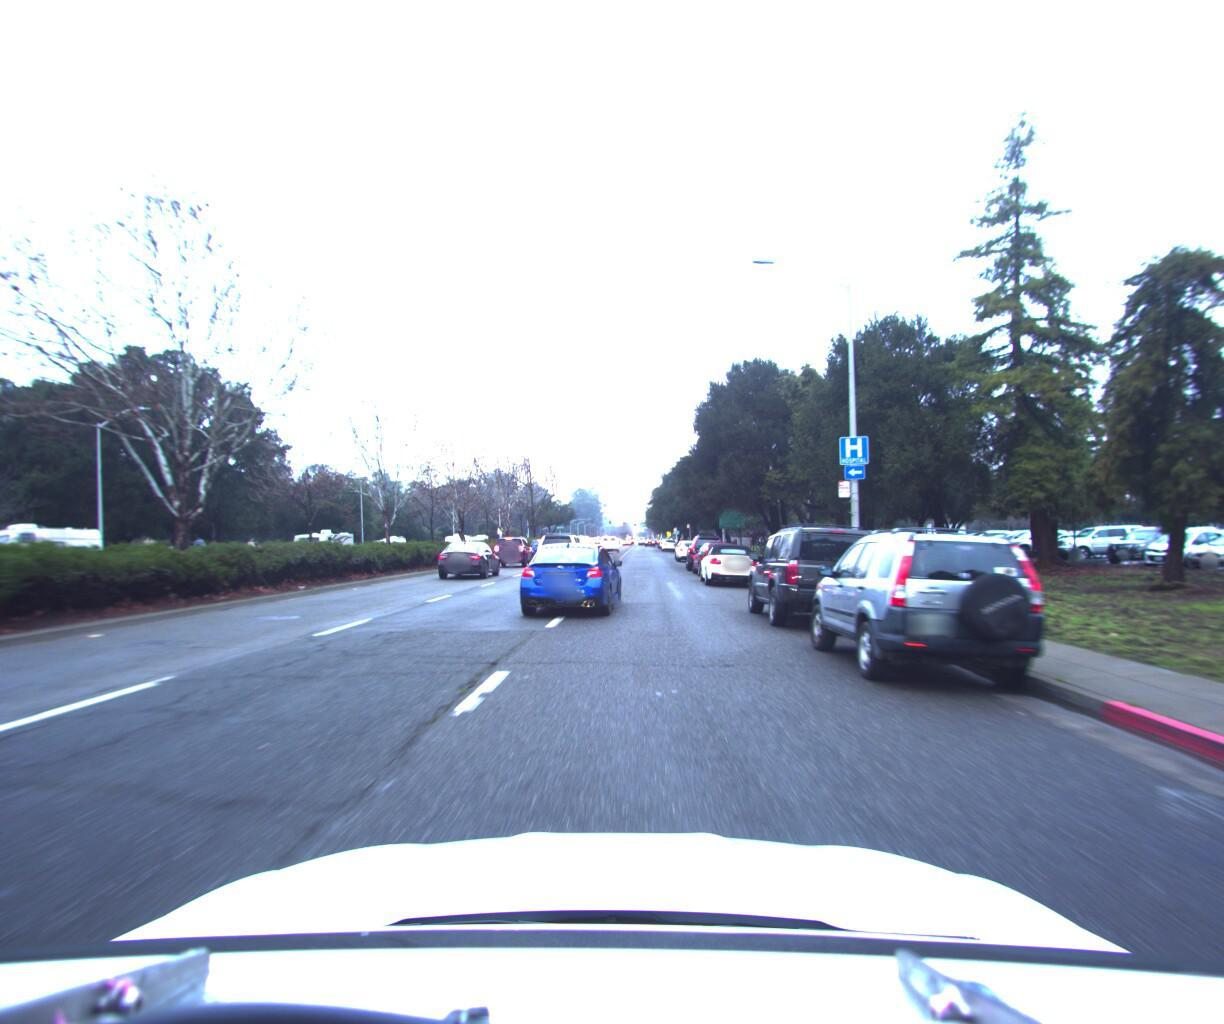car: (792, 515, 1075, 711), (738, 513, 892, 640), (514, 534, 622, 618), (693, 537, 761, 586), (435, 537, 502, 580), (532, 528, 589, 576), (689, 534, 742, 575), (682, 526, 726, 568), (493, 530, 537, 563), (673, 533, 703, 560), (601, 530, 622, 549)
other_vehicle: (0, 518, 109, 575), (289, 524, 355, 569)
